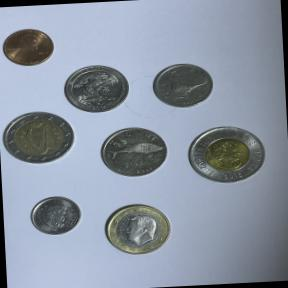coin: (180, 116, 276, 192), (94, 196, 181, 262), (92, 122, 178, 188), (0, 108, 78, 171), (59, 60, 136, 118), (0, 20, 61, 75), (24, 192, 88, 244)
